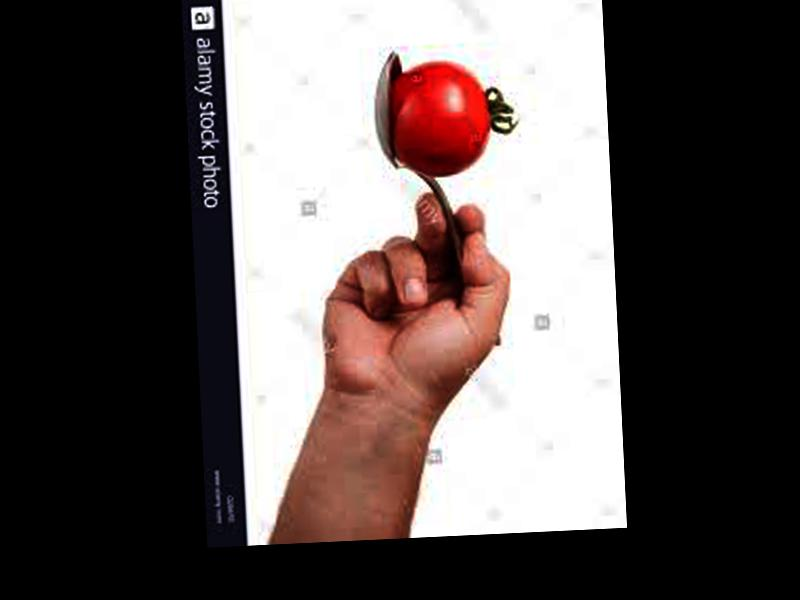Tomato: (390, 61, 493, 179)
